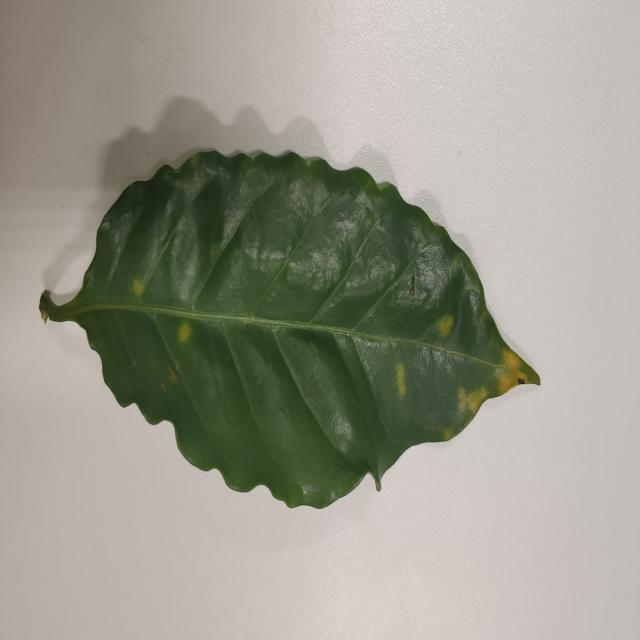Enfermedad-Roya: (38, 149, 540, 513)
